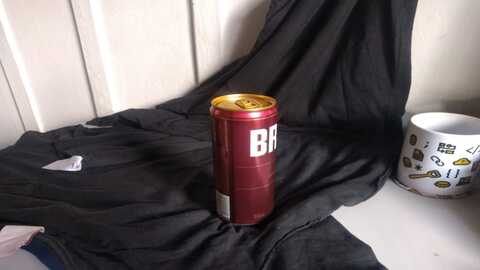duplo_malte: (201, 90, 284, 231)
